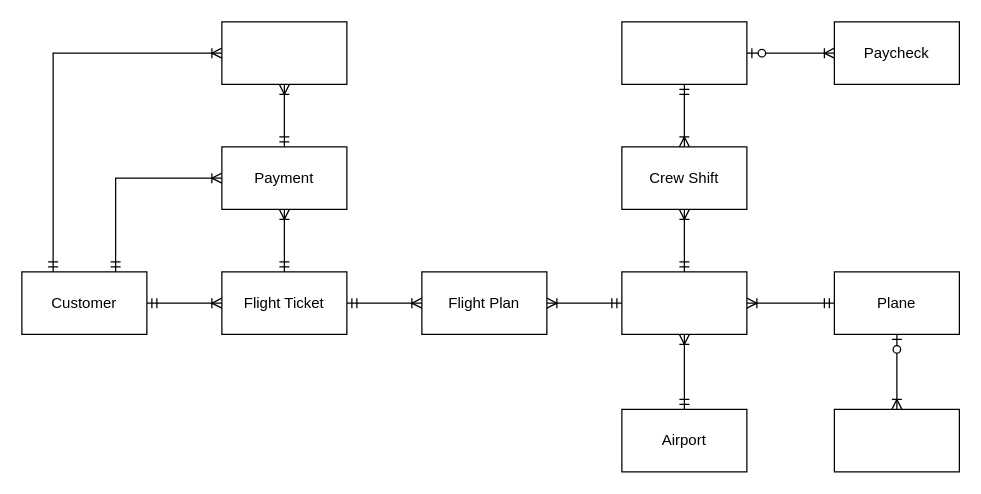
This 981x494 diagram has some shape labels left out. The shapes that lost their labels are listed below. From the top down, each one's box as (x1, y1, x2, y2) in pixels, then its label:
(221, 21, 347, 84): Refund
(621, 21, 747, 84): Crew
(621, 271, 747, 334): Flight
(833, 408, 959, 472): Maintenance Log
